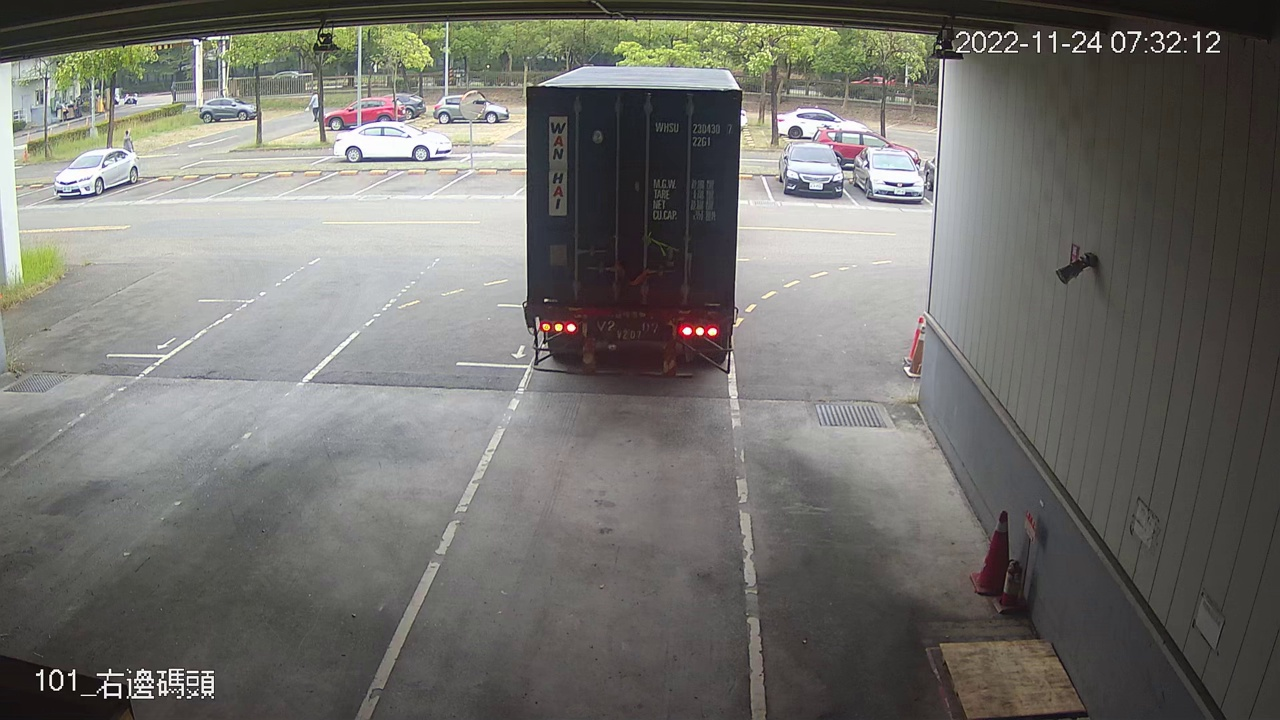container: (648, 114, 736, 154)
